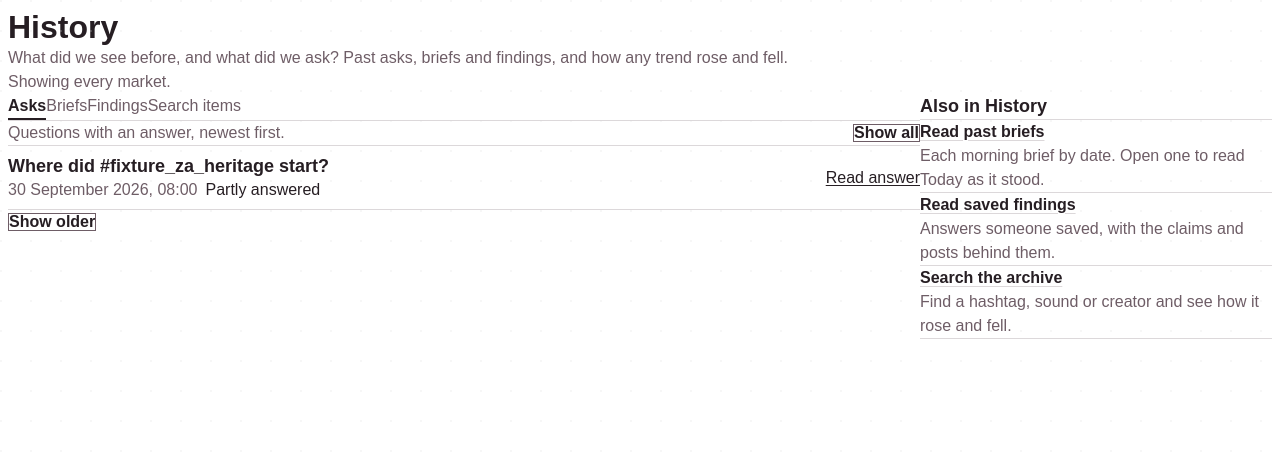
Test case: a saved Finding shows one context line and keeps the rest behind a closed toggle
What coordinates should you click on to do the following:
click the tab "Findings"
I would click on:
 (117, 107)
Its box is [87,94,148,120].
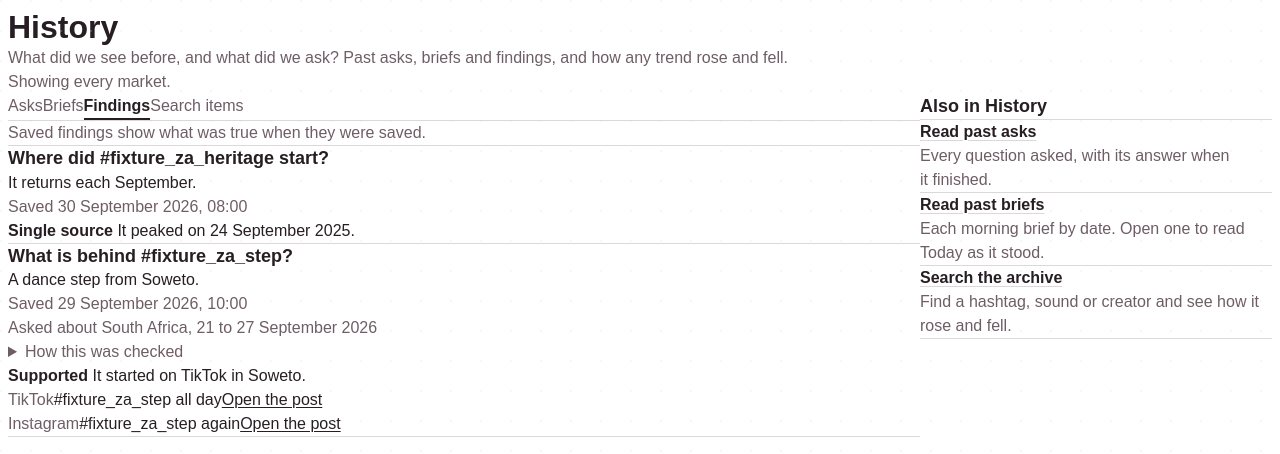
Now the heading "How this was checked" is shown, box [25,343,183,360]
Now the text "Asked about South Africa, 21 to 27 September 2026" is shown, box [8,319,377,336]
